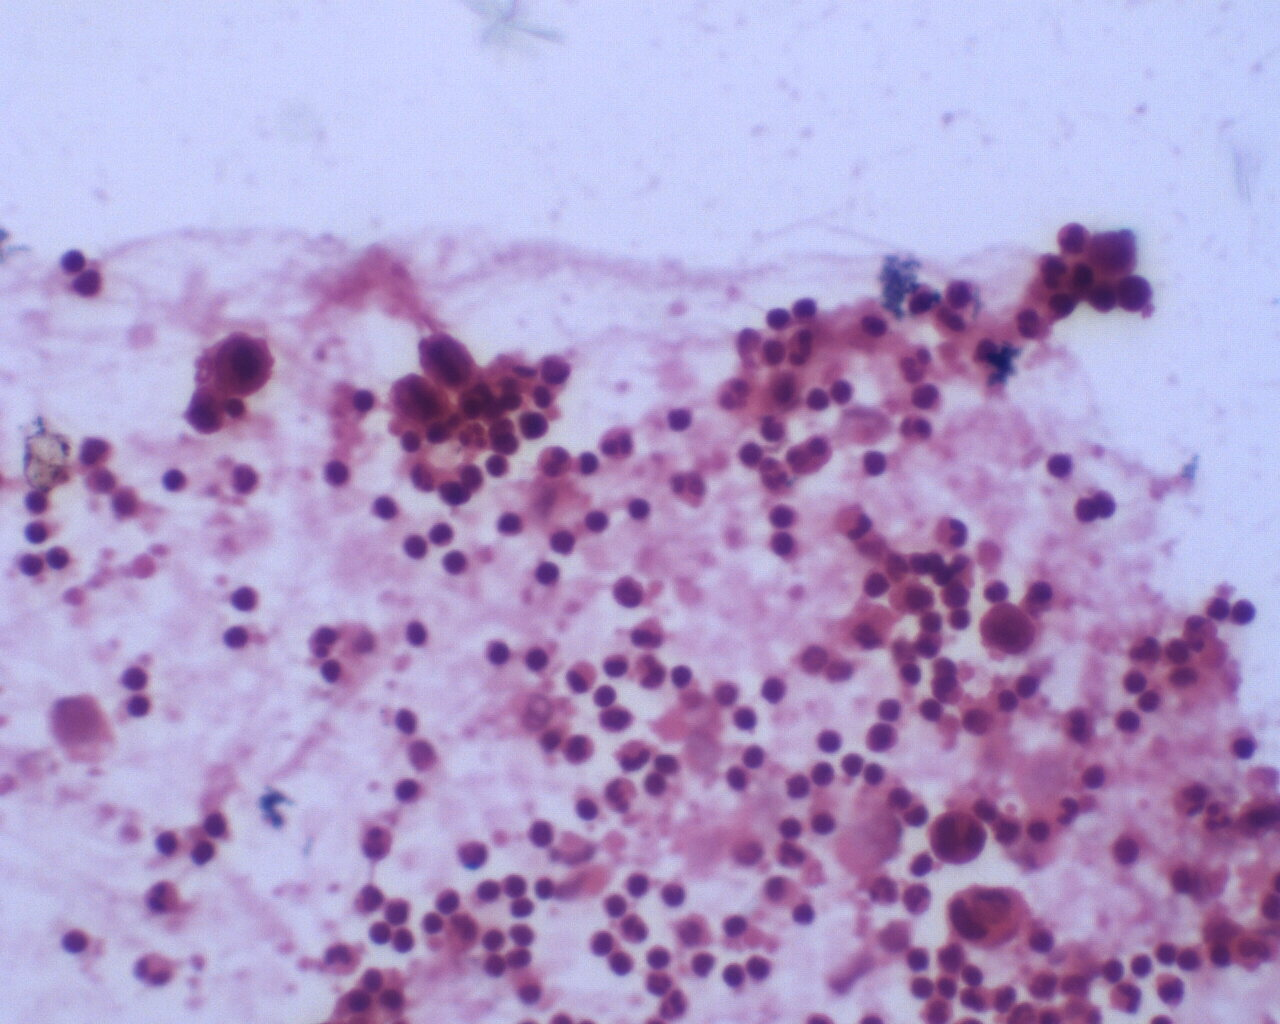ab: (212, 328, 279, 395), (974, 595, 1041, 659), (926, 804, 991, 869), (387, 368, 450, 428), (419, 330, 478, 392), (1115, 273, 1156, 312)
lymph: (387, 772, 429, 810), (56, 243, 91, 280), (229, 580, 265, 612), (1045, 448, 1079, 481), (859, 448, 891, 482), (533, 556, 566, 588), (321, 457, 354, 489), (1229, 594, 1260, 628), (584, 505, 614, 539), (1079, 760, 1109, 795), (160, 464, 191, 496), (484, 637, 516, 669), (770, 526, 800, 559), (768, 499, 802, 529), (624, 495, 658, 525), (389, 927, 420, 958), (371, 493, 403, 523), (808, 757, 840, 787), (722, 960, 751, 993), (403, 614, 429, 650), (811, 805, 841, 835), (1114, 707, 1144, 737), (574, 796, 603, 825), (439, 546, 469, 575), (669, 402, 696, 434), (502, 869, 529, 900), (765, 302, 791, 333), (789, 897, 814, 928), (670, 661, 696, 691), (366, 921, 392, 949), (734, 705, 759, 732)
neutro: (134, 944, 176, 990), (145, 877, 187, 917), (932, 513, 971, 553), (615, 734, 653, 771), (538, 443, 575, 482), (1107, 980, 1144, 1015), (1201, 798, 1233, 834)
